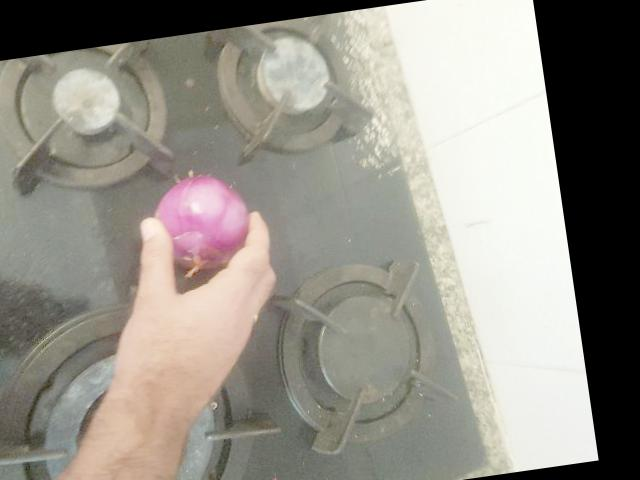onion: (313, 94, 394, 176)
